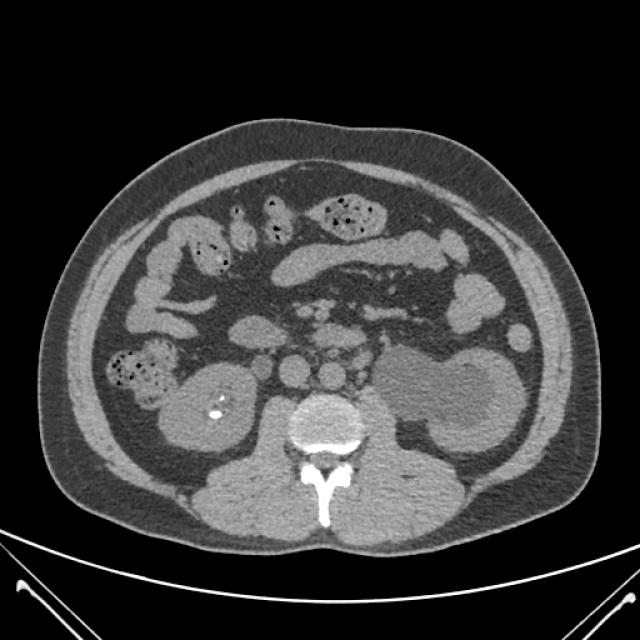kidneystone: (208, 409, 224, 419)
